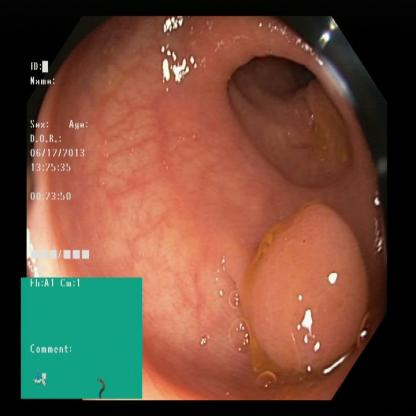Labels: (28, 55, 99, 267), (20, 278, 142, 397)
Polyps: (238, 186, 369, 366)
